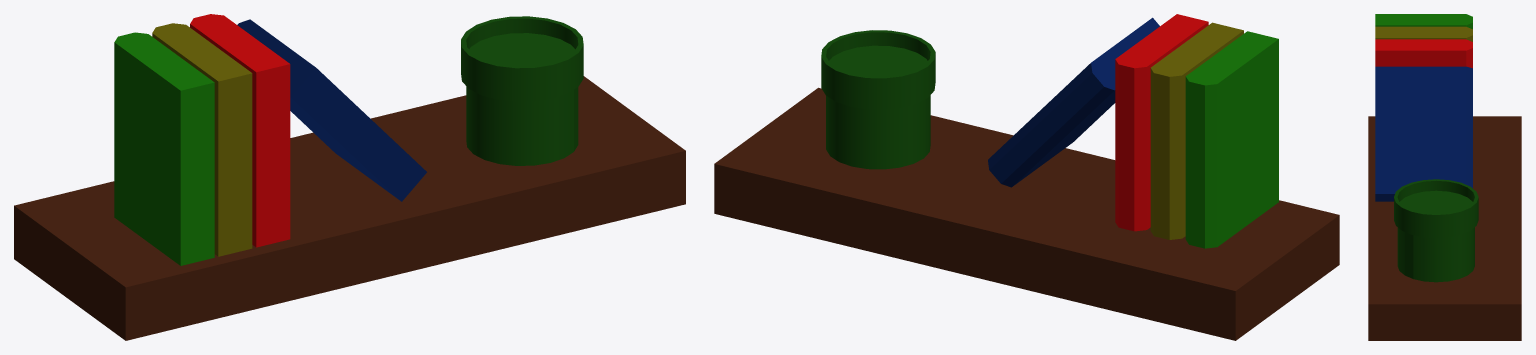
The model's file is Wall_Shelf.dae.
The picture shows the model from 3 angles, left to right: view 1: azimuth 30°, elevation 25°; view 2: azimuth 150°, elevation 25°; view 3: azimuth 270°, elevation 25°; orthographic projection. The views are drawn at different scales.
Visible parts, largest first — view 1: shelf; view 2: shelf; view 3: shelf.
Part boxes in pixels (bbox=[...]): shelf: bbox=[14, 14, 685, 340]; shelf: bbox=[714, 14, 1339, 340]; shelf: bbox=[1368, 14, 1521, 340].
Size of the model in its own units: 24.73 by 9.78 by 8.55.
